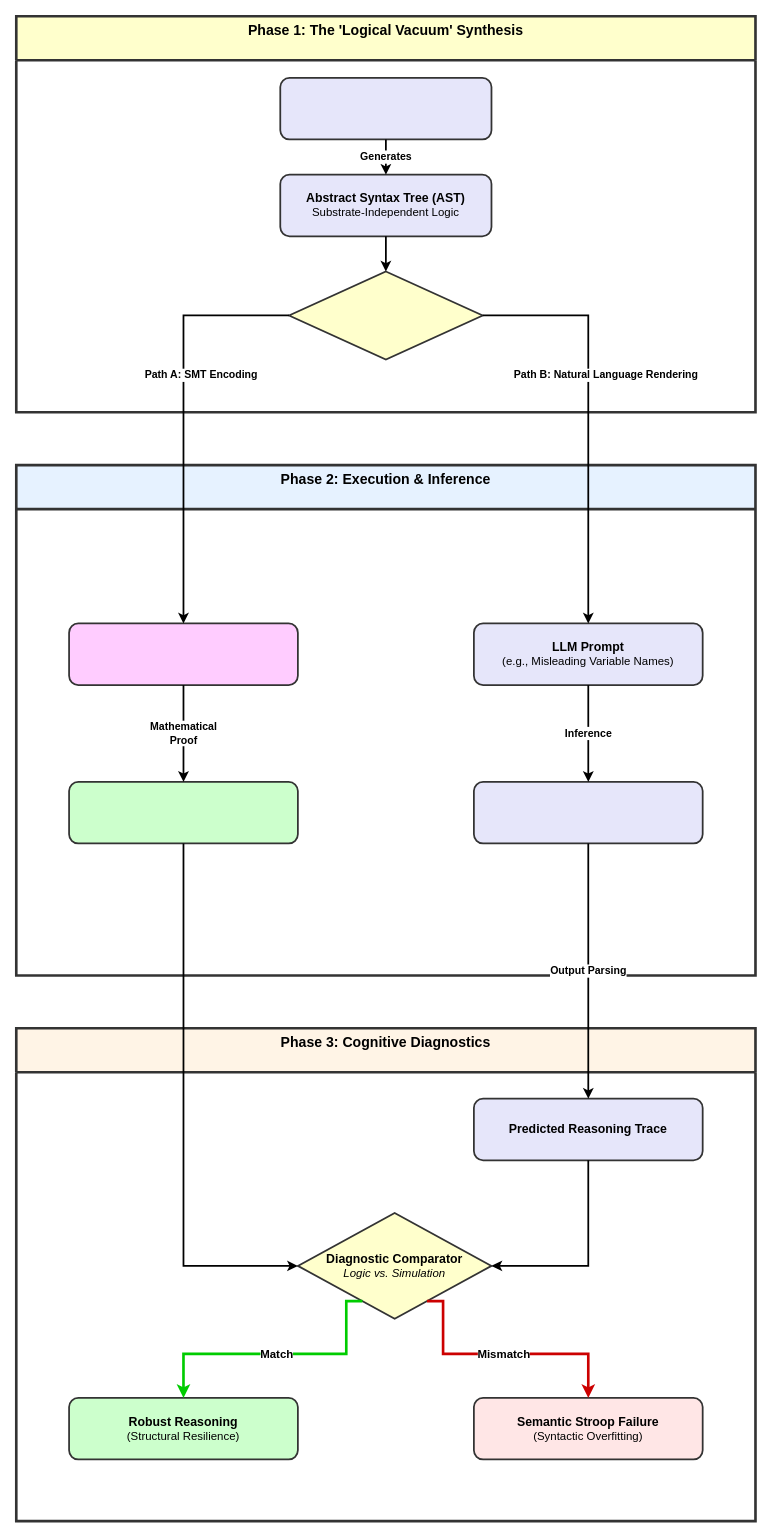
This 772x1537 diagram has some shape labels left out. Each missing label, with the centre of its shape:
Adversarial Renderer Injects 'Semantic Stroop': pixel 385 315
Deterministic Solution (Golden Answer): pixel 183 812
Infinite Scenario Generator (Causal/Temporal Logic Templates): pixel 385 108
Target Model (GPT-4o, Claude, etc.): pixel 588 812
Z3 SMT Solver Ground Truth Oracle: pixel 183 654
